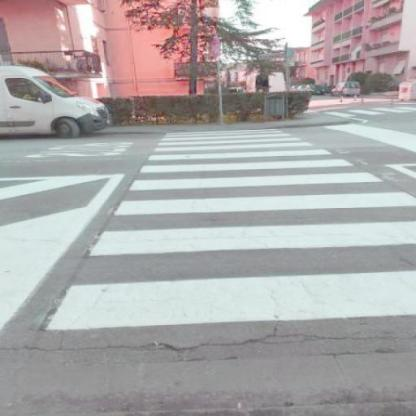crosswalk: (25, 223, 416, 347), (110, 167, 415, 217), (148, 134, 323, 152)
